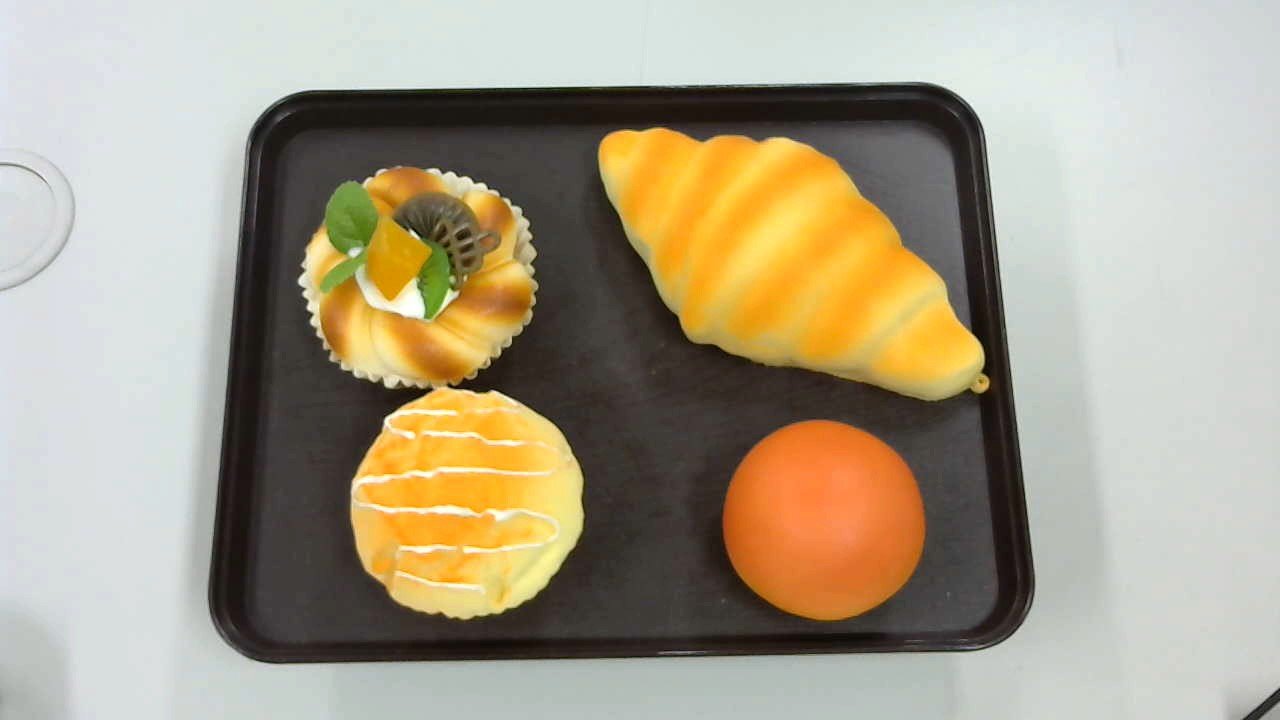bun: (723, 419, 925, 619)
croissant: (597, 126, 990, 401)
cupcake: (350, 387, 586, 619)
fruit tart: (298, 165, 538, 391)
